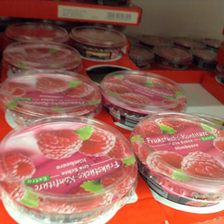jam: (1, 114, 137, 224), (130, 111, 224, 205), (100, 69, 191, 126), (1, 70, 102, 119), (2, 40, 80, 70), (71, 22, 127, 60)
